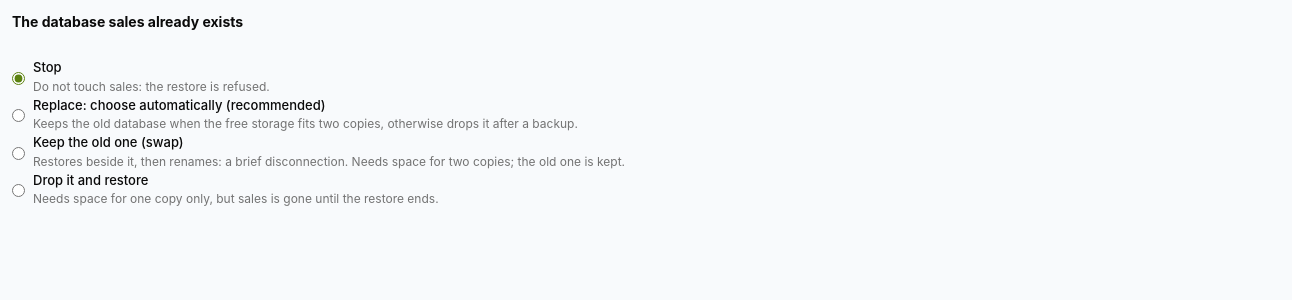
Test: ReplaceChoice › backs up before a drop, and warns clearly when that is switched off
This screenshot has width=1292, height=300.
Step 1. Click the radio button labelled "Drop it and restore" → (18, 191), box [12,184,25,197]
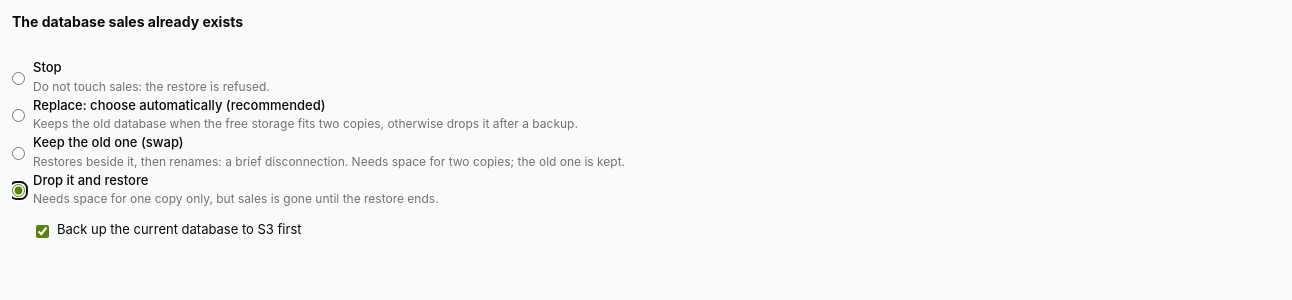
expect the checkbox labelled "Back up the current database to S3 first" is checked: met
Step 2. Click the checkbox labelled "Back up the current database to S3 first" → (42, 231), box [36,225,49,238]
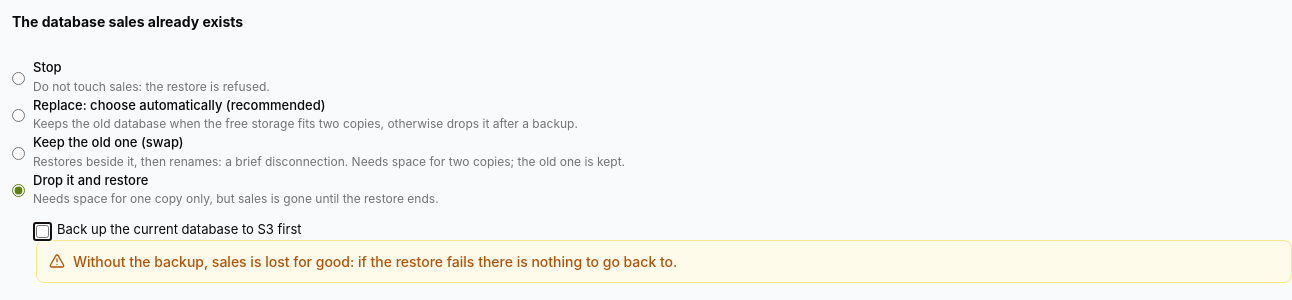
expect the message shows "Without the backup, sales is lost for good": met, box [73,252,677,270]
Step 3. Click the checkbox labelled "Back up the current database to S3 first" → (42, 231), box [36,225,49,238]
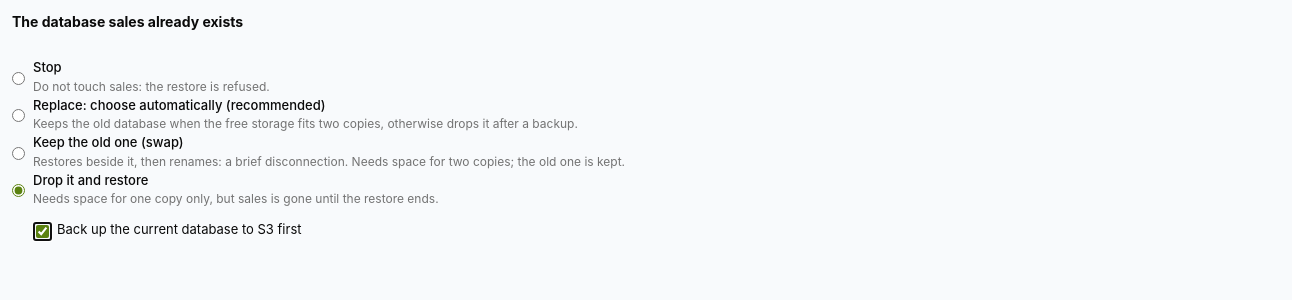
expect the message is gone: met
